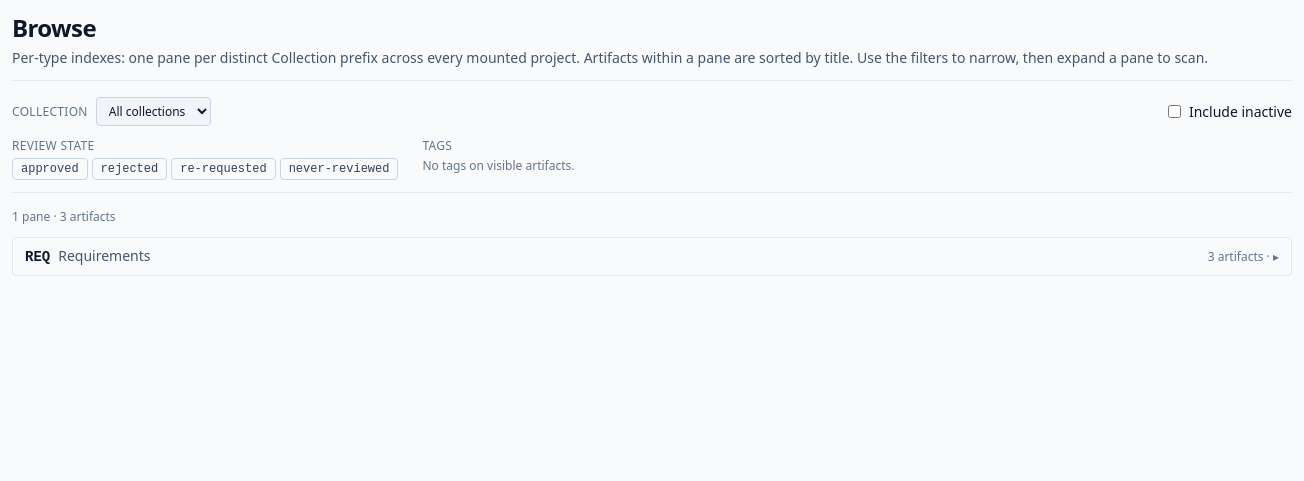
Test case: BrowsePage › in-pane title filter narrows client-side without an additional fetch
Click the button "REQ Requirements 3 artifacts · ▸" at (104, 256), box 13,238 -> 1291,275
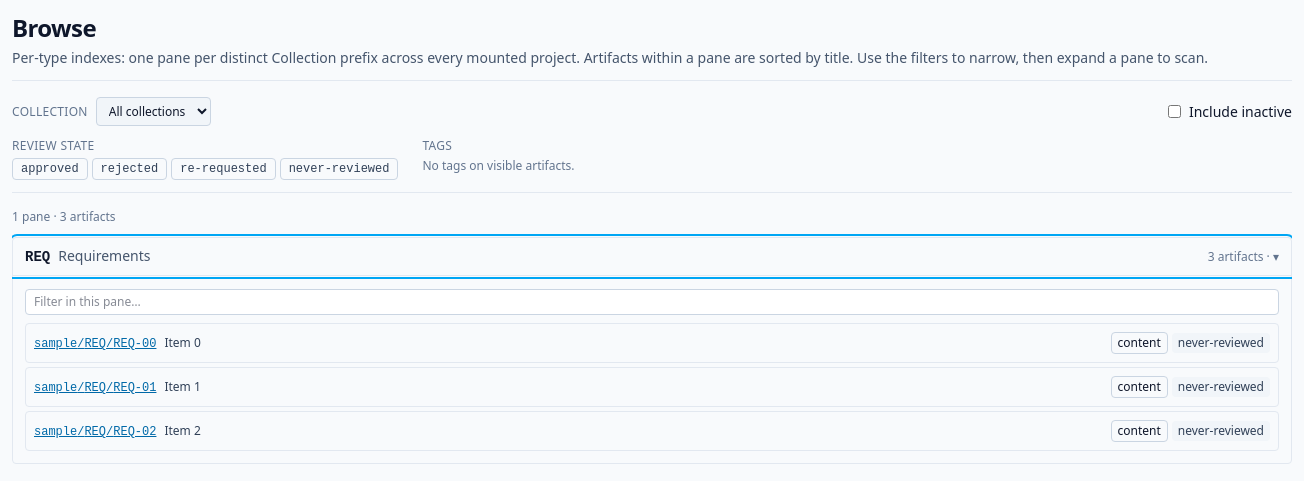
Now the list item with test id "browse-row-REQ-00" is shown, box 25,323 -> 1279,363
Type "item 1" into the search field named "filter req artifacts" at (652, 302), box 25,289 -> 1279,315
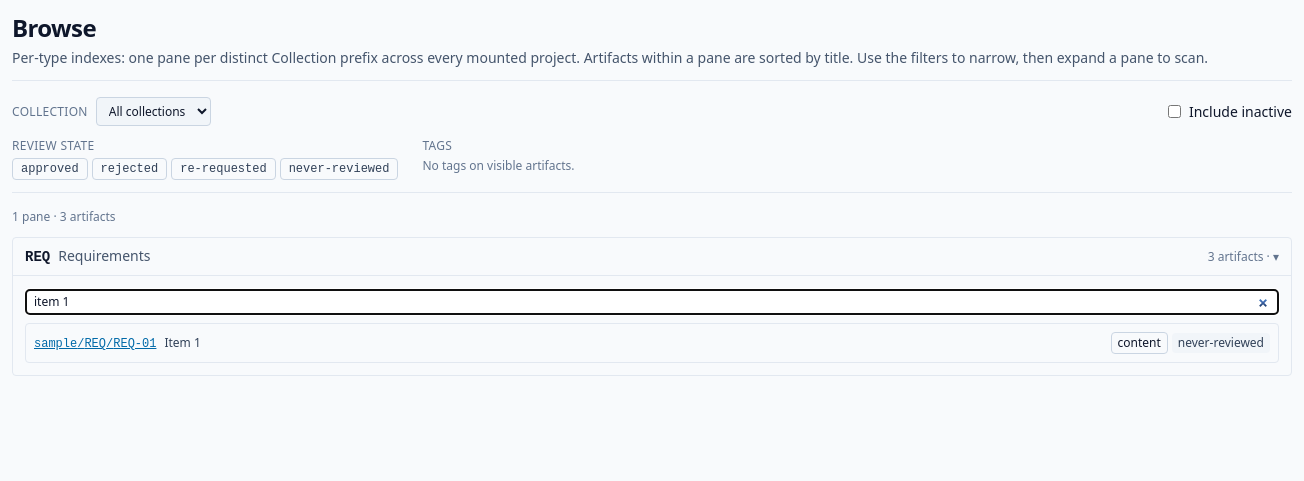
Now the list item with test id "browse-row-REQ-01" is shown, box 25,323 -> 1279,363
Now the list item with test id "browse-row-REQ-00" is gone
Now the list item with test id "browse-row-REQ-02" is gone
